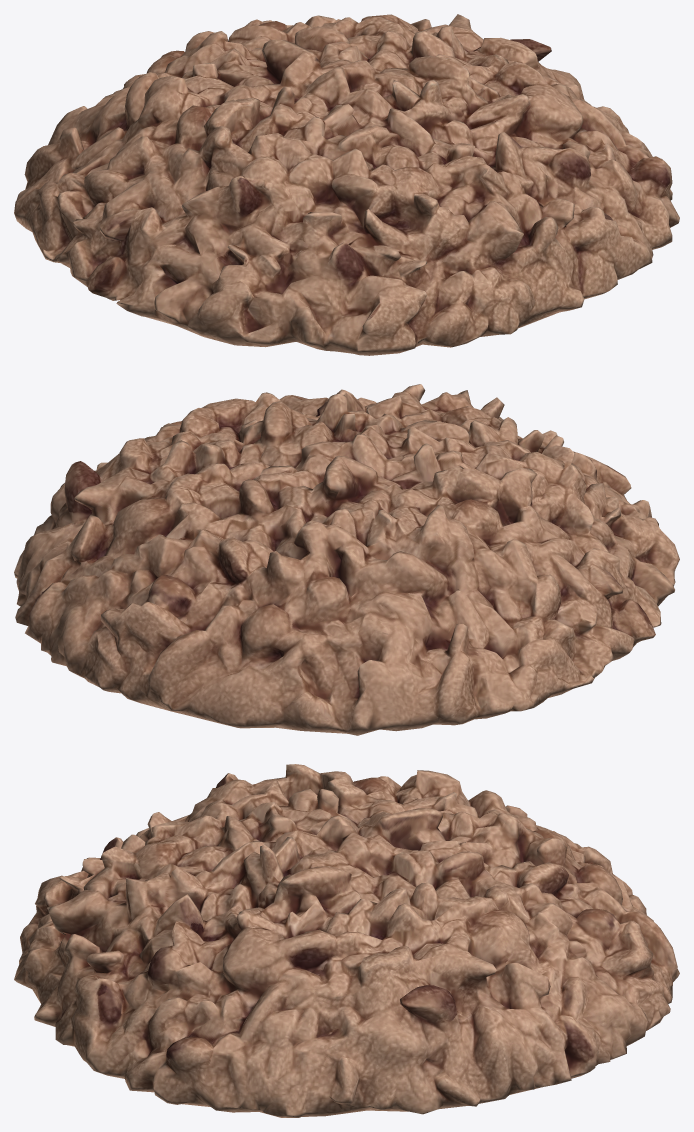
The model's file is ArrozConFrijol.fbx.
The picture shows the model from 3 angles, top to bottom: view 1: azimuth 30°, elevation 25°; view 2: azimuth 150°, elevation 25°; view 3: azimuth 270°, elevation 25°; orthographic projection. The views are drawn at different scales.
Parts seen in each view (by area): view 1: Mesh_0; view 2: Mesh_0; view 3: Mesh_0.
Boxes of the visible parts, <box> form: Mesh_0: <box>14,14,679,355</box>; Mesh_0: <box>14,384,679,735</box>; Mesh_0: <box>14,764,679,1117</box>.
Size of the model in its own units: 186 by 51.27 by 188.
1 material, 1 textured.
